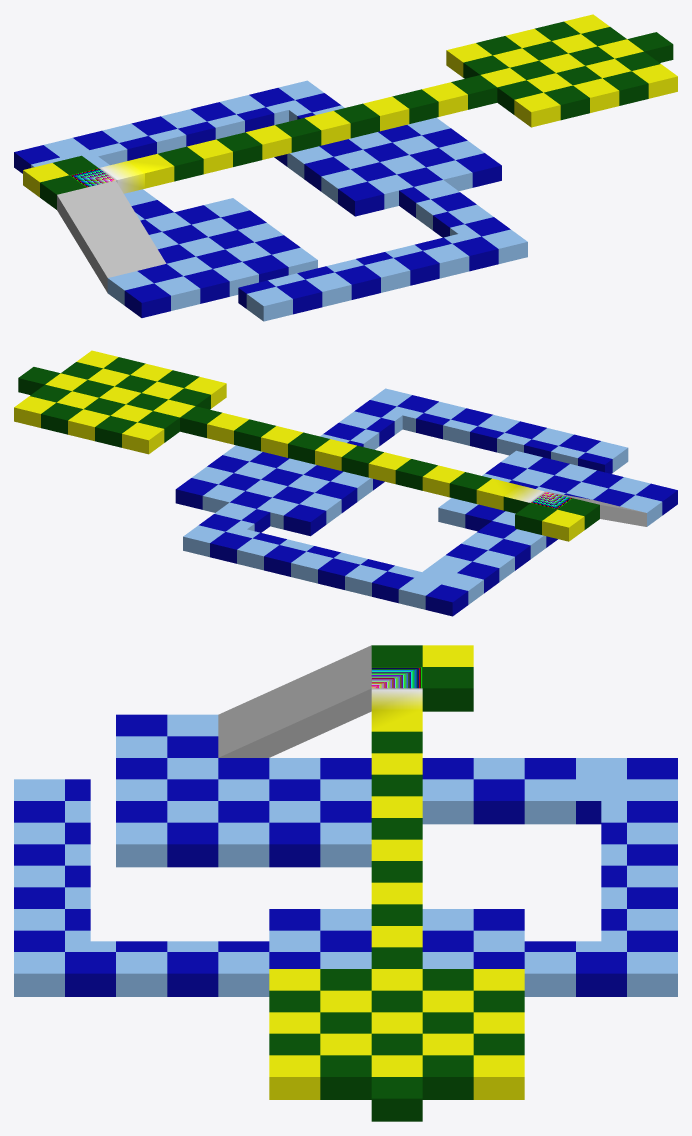
File: navmesh.glb
3 views of the same model, one above another, from view 1: azimuth 30°, elevation 25°; view 2: azimuth 150°, elevation 25°; view 3: azimuth 270°, elevation 25° (orthographic). The views are drawn at different scales.
Parts seen in each view (by area): view 1: Untitled; view 2: Untitled; view 3: Untitled.
Boxes of the visible parts, x1,y1,x2,y2 form: Untitled: (14, 14, 677, 321); Untitled: (14, 350, 677, 616); Untitled: (14, 645, 677, 1121).
Size of the model in its own units: 4.2 by 0.4 by 2.6.
1 material, 1 textured.
